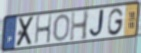G: (107, 7, 125, 37)
H: (69, 10, 90, 43), (34, 13, 53, 45)
J: (88, 8, 107, 39)
O: (52, 14, 71, 43)
X: (15, 15, 36, 48)
